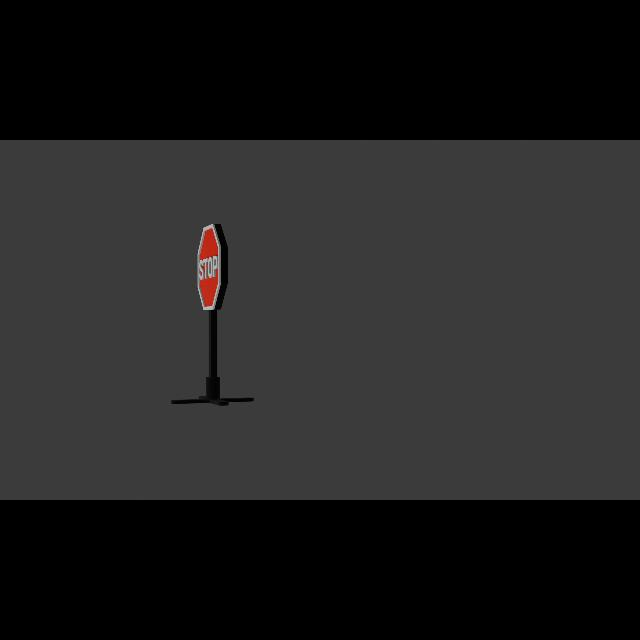sign_stop: (197, 224, 229, 312)
